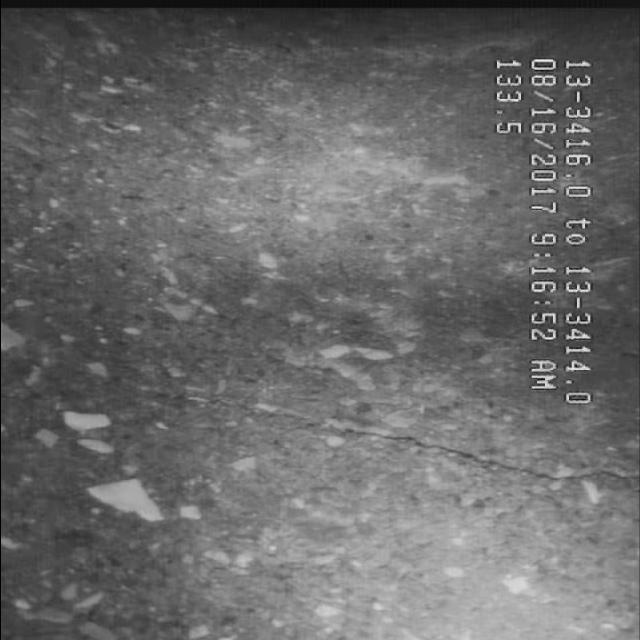Crack: (226, 398, 626, 544)
